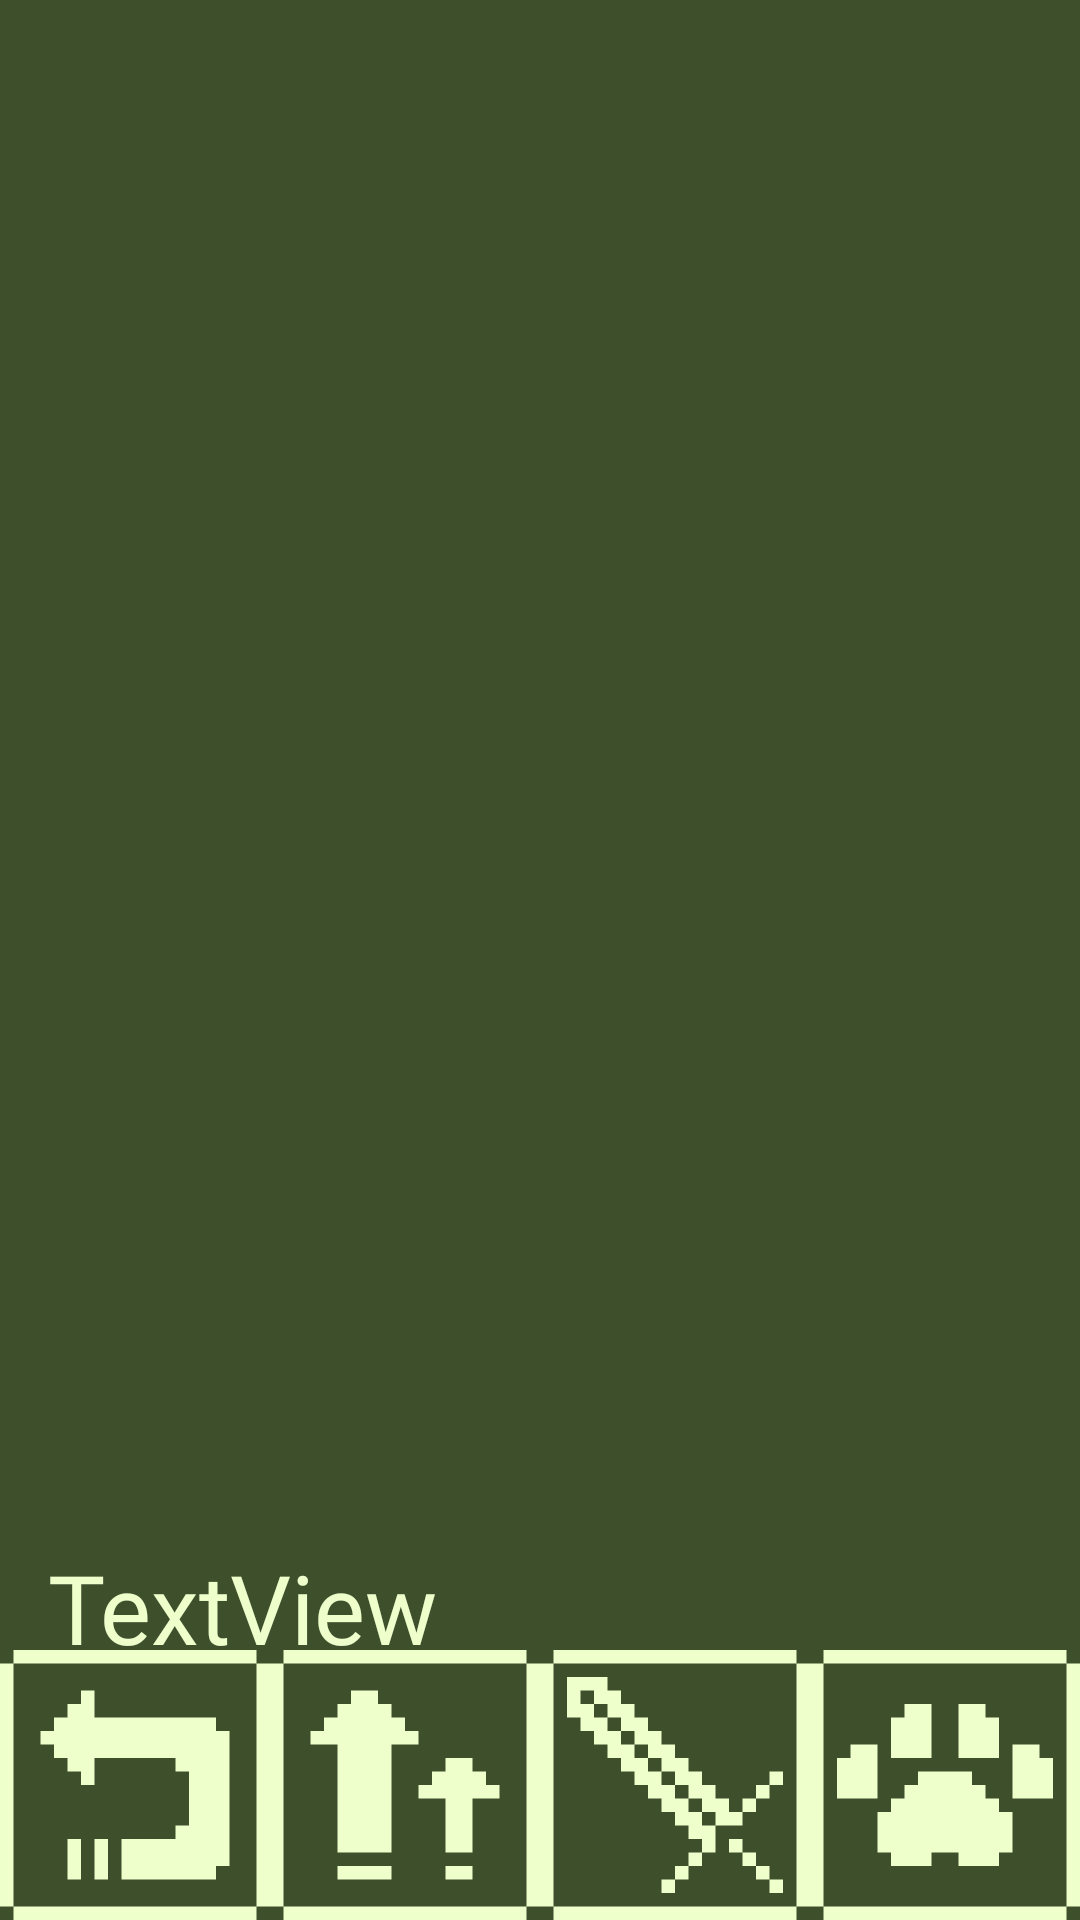

Icon click points for this 1080 x 1920 phone screenshot, format point (x, y):
back: point (135, 1785)
buffs: point (405, 1785)
pets: point (945, 1785)
wep greatsword: point (675, 1785)
